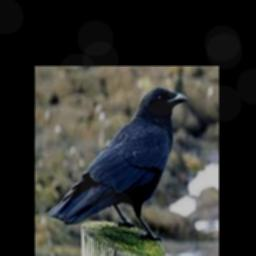Crow: (47, 86, 186, 242)
